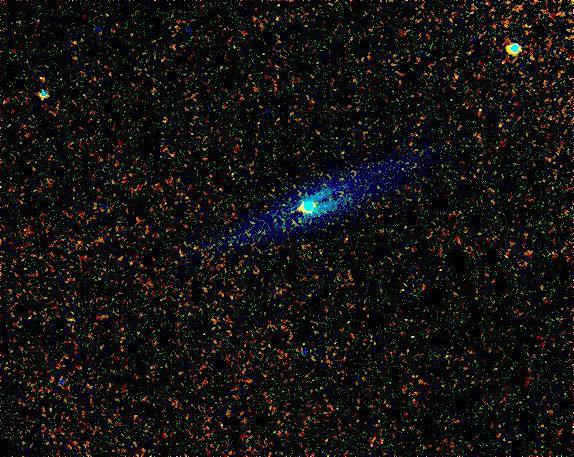star: (51, 71, 81, 101)
